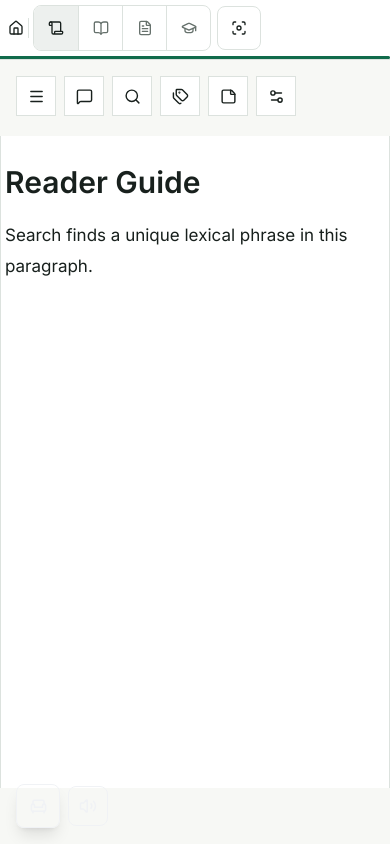
Test: DocumentReader › opens reader tools for the mobile layout
Check: the text "Search finds a unique lexical phrase in this paragraph." is shown, box [5, 220, 385, 281]
Click the button named "Mục lục". click: click(36, 96)
box: [16, 76, 56, 116]
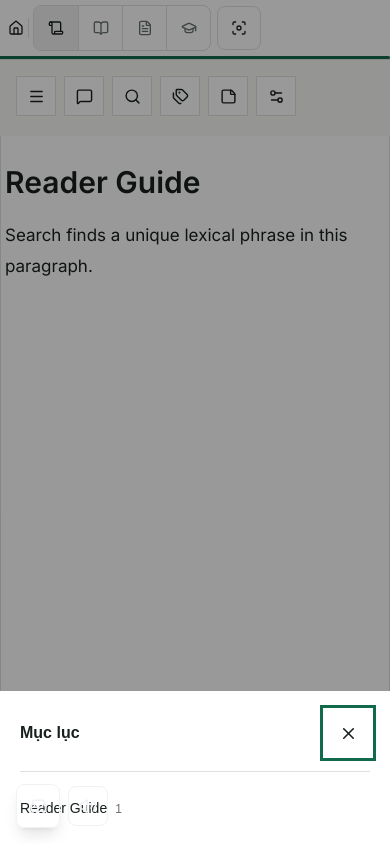
Check: the dialog named "Công cụ đọc" is shown
Check: the button named "Đóng công cụ đọc" is shown, box [326, 711, 370, 755]
